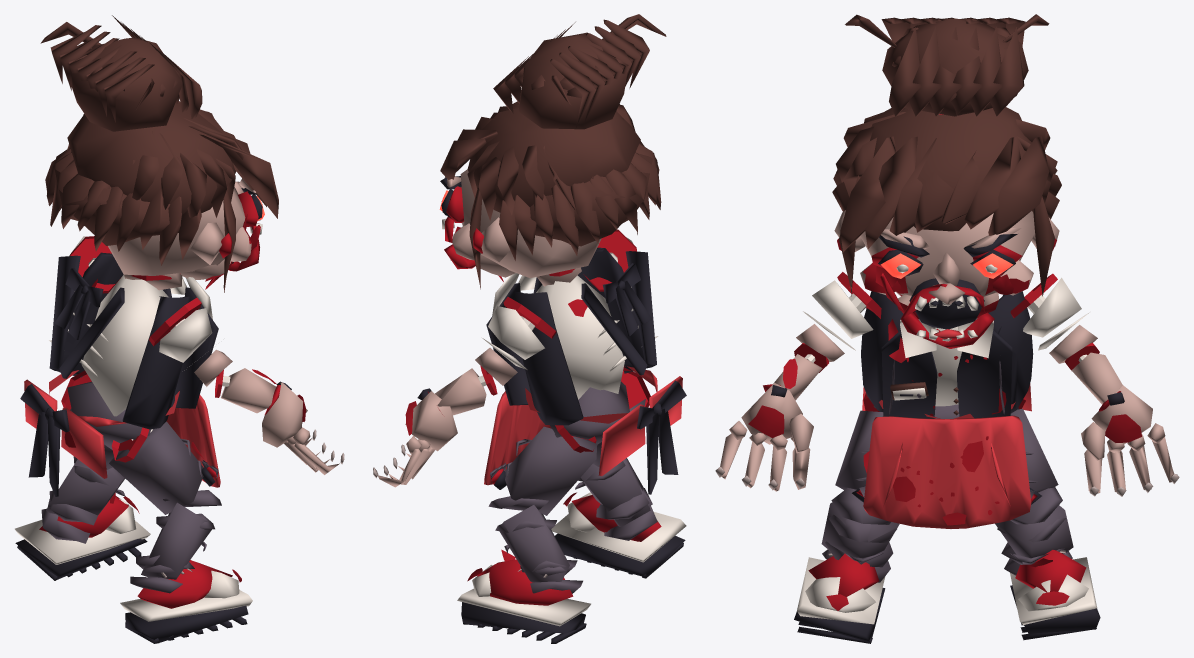
3 views of the same model, side by side, from view 1: azimuth 30°, elevation 25°; view 2: azimuth 150°, elevation 25°; view 3: azimuth 270°, elevation 25° (orthographic). The views are drawn at different scales.
Parts seen in each view (by area): view 1: head, torso, hip, footR, footL, legR, shinR, shinL, handR, armR, foreArmR, stump_armL (+2 smaller); view 2: head, torso, hip, footL, footR, legL, shinL, shinR, handL, armL, foreArmL, stump_armR (+2 smaller); view 3: head, hip, torso, footR, footL, handL, handR, shinR, shinL, armL, armR, legR (+5 smaller).
Part boxes in pixels (x1,y1,x2,y2): head: (40,15,278,292); torso: (49,252,218,429); hip: (20,370,220,496); footR: (120,560,252,643); footL: (15,496,150,580); legR: (109,421,218,514); shinR: (130,490,221,593); shinL: (41,456,125,543); handR: (262,382,344,474); armR: (159,308,232,386); foreArmR: (221,368,291,414); stump_armL: (70,236,121,293); head: (439,14,666,289); torso: (486,247,658,425); hip: (484,366,686,494); footL: (457,559,590,643); footR: (551,487,686,578); legL: (490,426,597,515); shinL: (488,496,582,593); shinR: (575,458,657,540); handL: (373,391,457,487); armL: (475,306,544,385); foreArmL: (417,368,486,415); stump_armR: (583,229,636,291); head: (832,14,1061,348); hip: (862,383,1031,528); torso: (861,291,1033,418); footR: (794,550,885,643); footL: (1010,550,1100,640); handL: (1081,385,1179,496); handR: (715,383,813,491); shinR: (821,488,899,582); shinL: (995,487,1073,575); armL: (1023,277,1097,363); armR: (796,280,873,362); legR: (835,410,883,502).
Bounding box in the file's own units: 0.7374 × 1.8 × 1.27.
